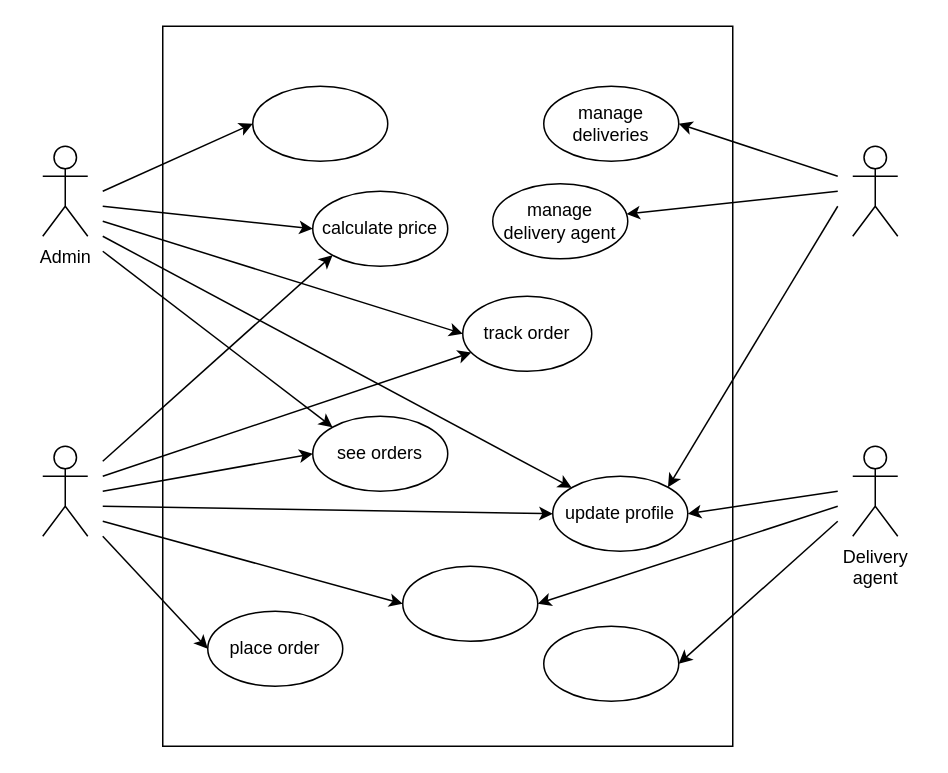
The diagram is 948 pixels wide and 773 high, and some of its shapes have lost their labels. Each missing label, with the box of its shape:
Customer: (41, 445, 88, 536)
Delivers orders: (542, 625, 679, 701)
history: (401, 565, 538, 641)
see warehouse: (251, 85, 388, 161)
Warehouse manager: (851, 145, 898, 236)
